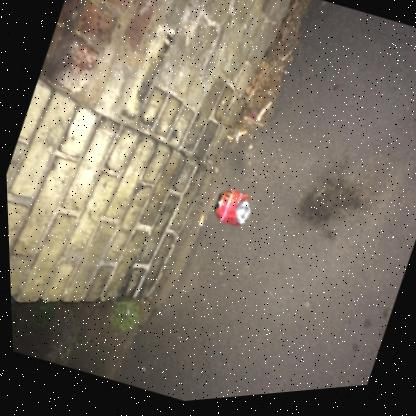Metal: (211, 193, 247, 230)
Waste: (196, 218, 201, 229), (236, 134, 244, 140)
